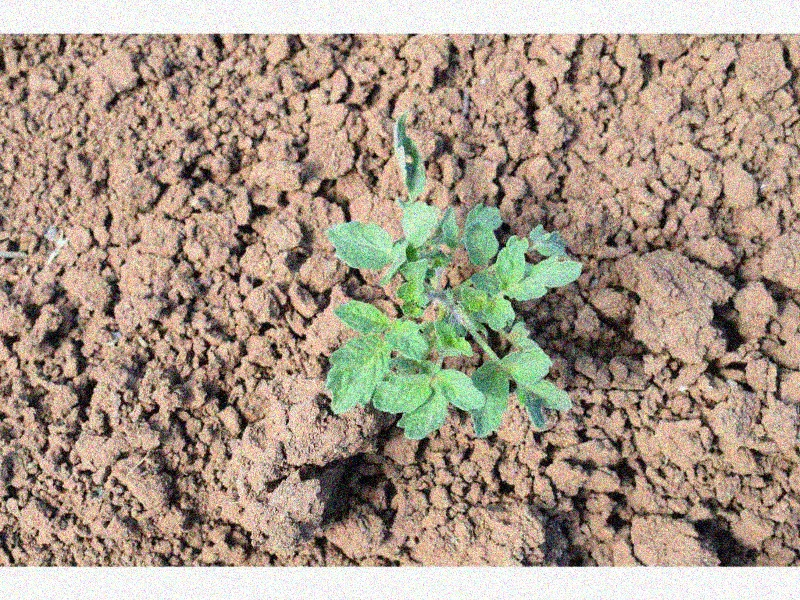tomato: (327, 108, 583, 439)
